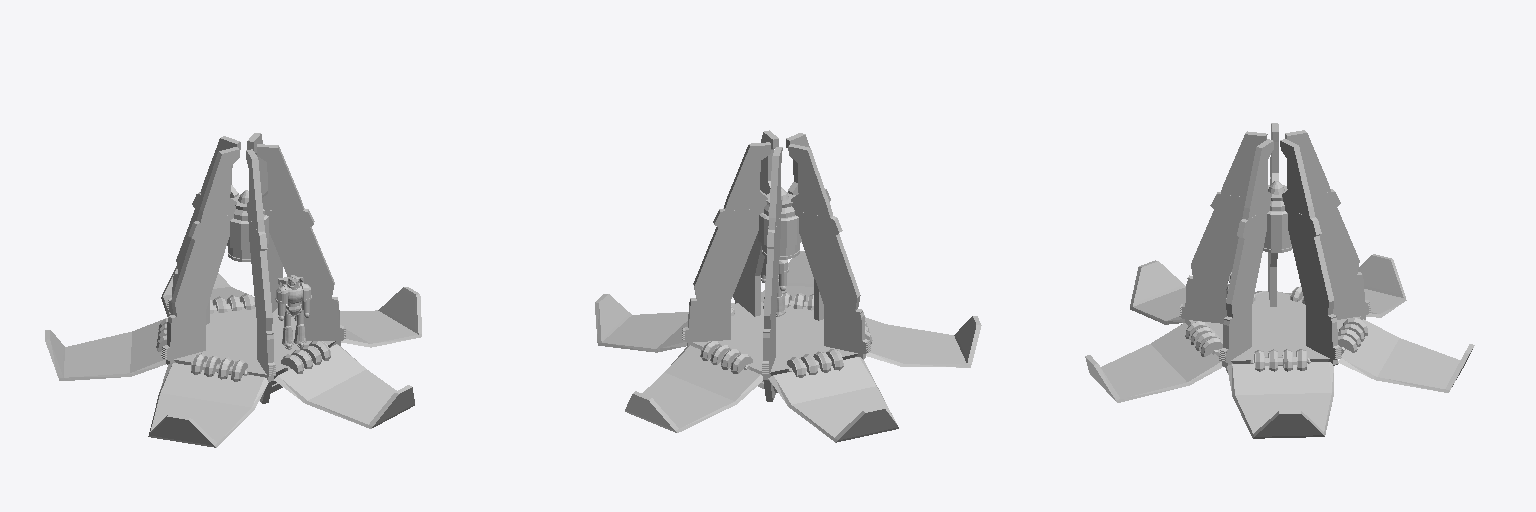
File: Pod and marine.obj
3 renders of one model, left to right at view 1: azimuth 30°, elevation 25°; view 2: azimuth 150°, elevation 25°; view 3: azimuth 270°, elevation 25°, orthographic.
Visible parts, largest first — view 1: PodBody prime_Door transform6 transform7 transform8 transform9 t, prime_Frame PodBody prime_Frame1 prime_Frame3 prime_Frame2 prime, PodBody Base, PodBody pCylinder14 pCylinder10 pCylinder11 pCylinder12 pCylinde, PodBody pCylinder8, PodBody pCylinder1; view 2: PodBody prime_Door transform6 transform7 transform8 transform9 t, prime_Frame PodBody prime_Frame1 prime_Frame3 prime_Frame2 prime, PodBody Base, PodBody pCylinder14 pCylinder10 pCylinder11 pCylinder12 pCylinde, PodBody pCylinder1, PodBody pCylinder8; view 3: prime_Frame PodBody prime_Frame1 prime_Frame3 prime_Frame2 prime, PodBody prime_Door transform6 transform7 transform8 transform9 t, PodBody Base, PodBody pCylinder14 pCylinder10 pCylinder11 pCylinder12 pCylinde, PodBody pCylinder1.
Part boxes in pixels (left/top/right/bottom): PodBody prime_Door transform6 transform7 transform8 transform9 t: left=45, top=266, right=421, bottom=447; prime_Frame PodBody prime_Frame1 prime_Frame3 prime_Frame2 prime: left=161, top=133, right=345, bottom=403; PodBody Base: left=174, top=307, right=335, bottom=392; PodBody pCylinder14 pCylinder10 pCylinder11 pCylinder12 pCylinde: left=156, top=293, right=330, bottom=381; PodBody pCylinder8: left=275, top=275, right=311, bottom=349; PodBody pCylinder1: left=227, top=190, right=268, bottom=249; PodBody prime_Door transform6 transform7 transform8 transform9 t: left=595, top=251, right=981, bottom=442; prime_Frame PodBody prime_Frame1 prime_Frame3 prime_Frame2 prime: left=682, top=130, right=870, bottom=401; PodBody Base: left=693, top=302, right=857, bottom=392; PodBody pCylinder14 pCylinder10 pCylinder11 pCylinder12 pCylinde: left=700, top=292, right=872, bottom=377; PodBody pCylinder1: left=758, top=187, right=801, bottom=247; PodBody pCylinder8: left=761, top=257, right=788, bottom=316; prime_Frame PodBody prime_Frame1 prime_Frame3 prime_Frame2 prime: left=1179, top=123, right=1370, bottom=372; PodBody prime_Door transform6 transform7 transform8 transform9 t: left=1085, top=254, right=1474, bottom=438; PodBody Base: left=1189, top=291, right=1360, bottom=363; PodBody pCylinder14 pCylinder10 pCylinder11 pCylinder12 pCylinde: left=1185, top=286, right=1367, bottom=371; PodBody pCylinder1: left=1265, top=181, right=1289, bottom=240.
Bounding box in the file's own units: 620 × 413 × 638.